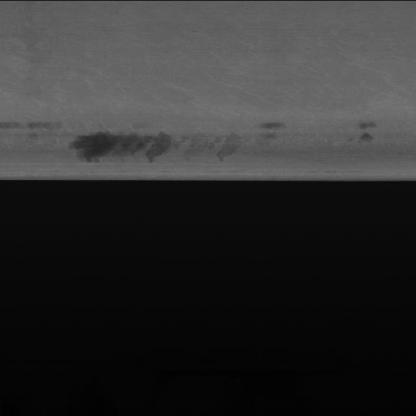oil_spot: (66, 129, 242, 165), (244, 118, 382, 148), (3, 118, 72, 135)
